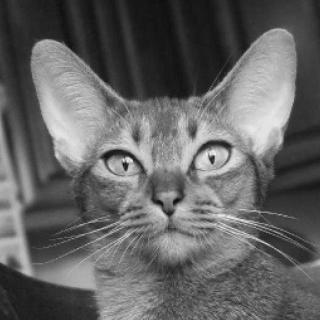cat: (31, 32, 298, 278)
nose: (147, 171, 191, 216)
